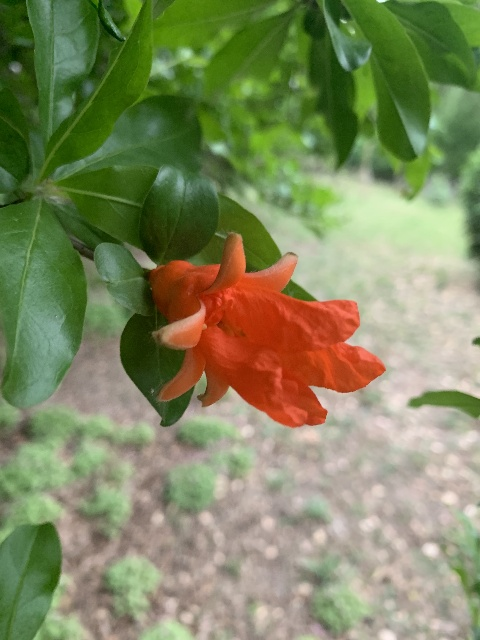flower: (150, 233, 386, 428)
